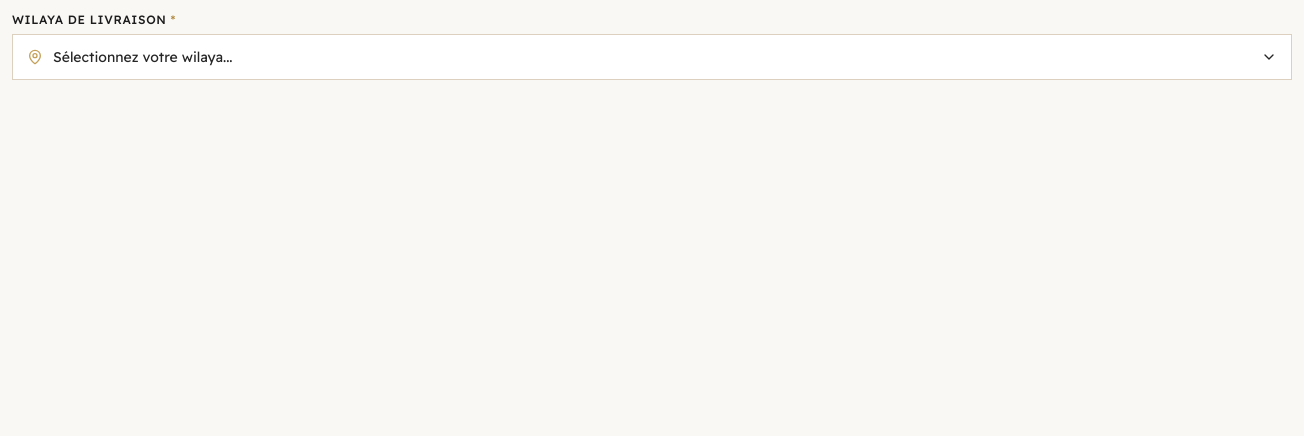
Test: Algerian 68 Wilayas & Baladiyat (Communes) Complete Suite › WilayaSelector Component with 68 Wilayas › allows selecting Wilaya 68 (Bou Saâda)
Later steps or results of the test are not shown.
Note: Open dropdown
Click the button with aria-label "Wilaya de livraison": (143, 57) [12,34,1292,80]
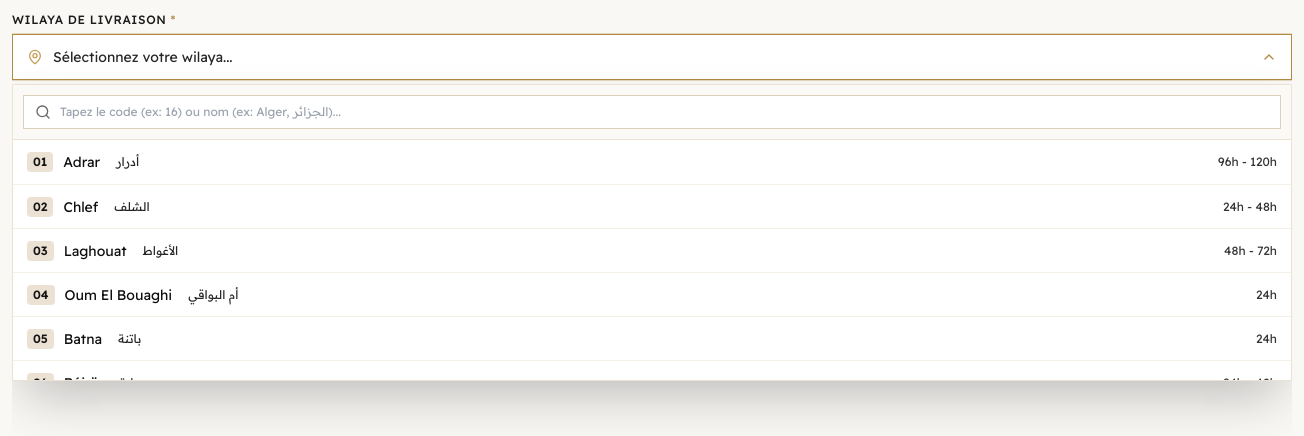
In the field with placeholder "Tapez le code (ex: 16) ou nom (ex: Alger, الجزائر)...": (652, 112) [23,95,1281,129], type "68"
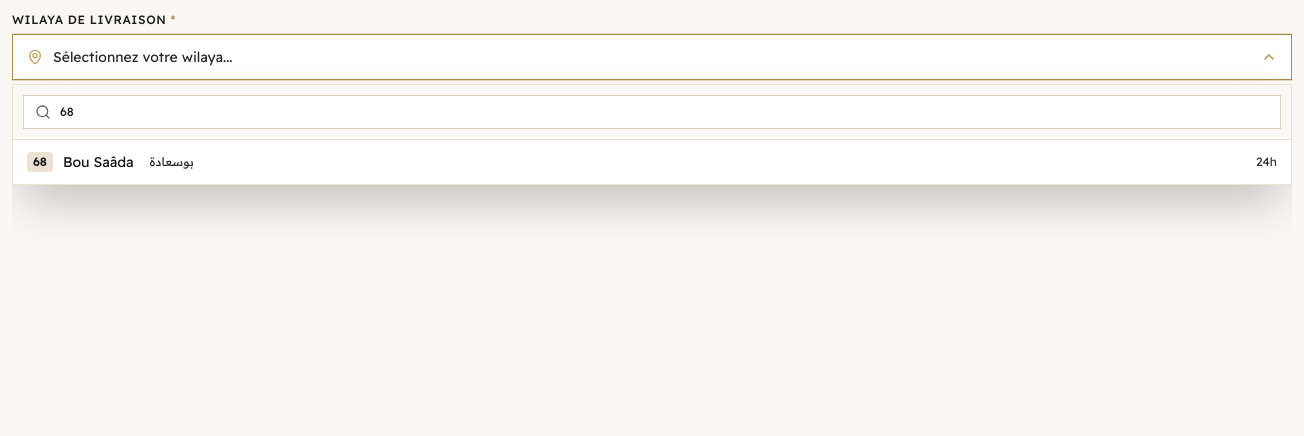
Now the button "68 Bou Saâda بوسعادة 24h" is shown, box [13,140,1291,184]
